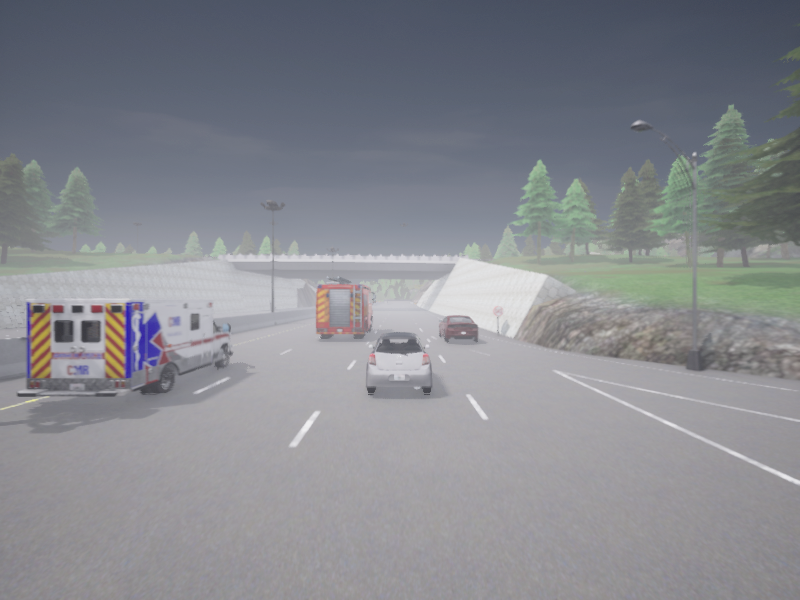vehicle: (17, 299, 232, 396), (366, 332, 431, 393), (315, 276, 375, 337), (439, 315, 477, 341)
